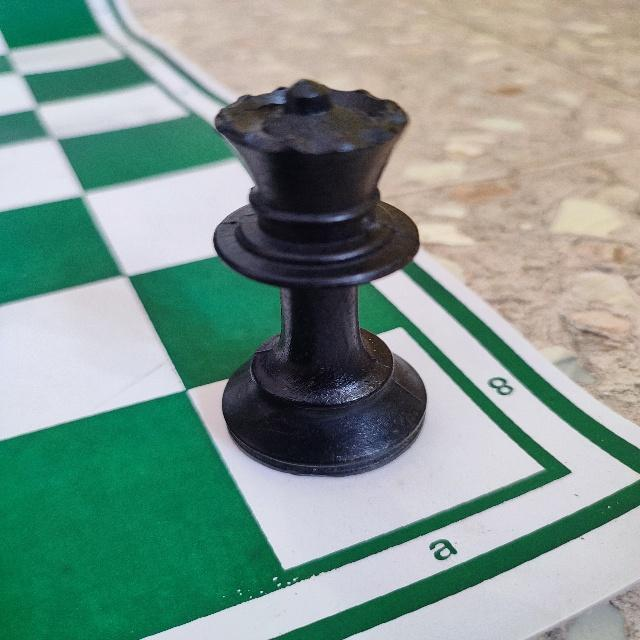Queen: (210, 75, 432, 481)
